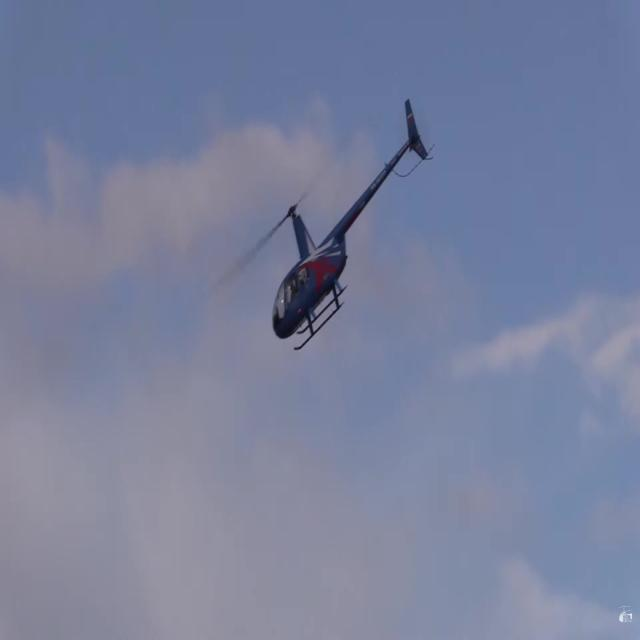CIV_HELO: (271, 98, 428, 352)
